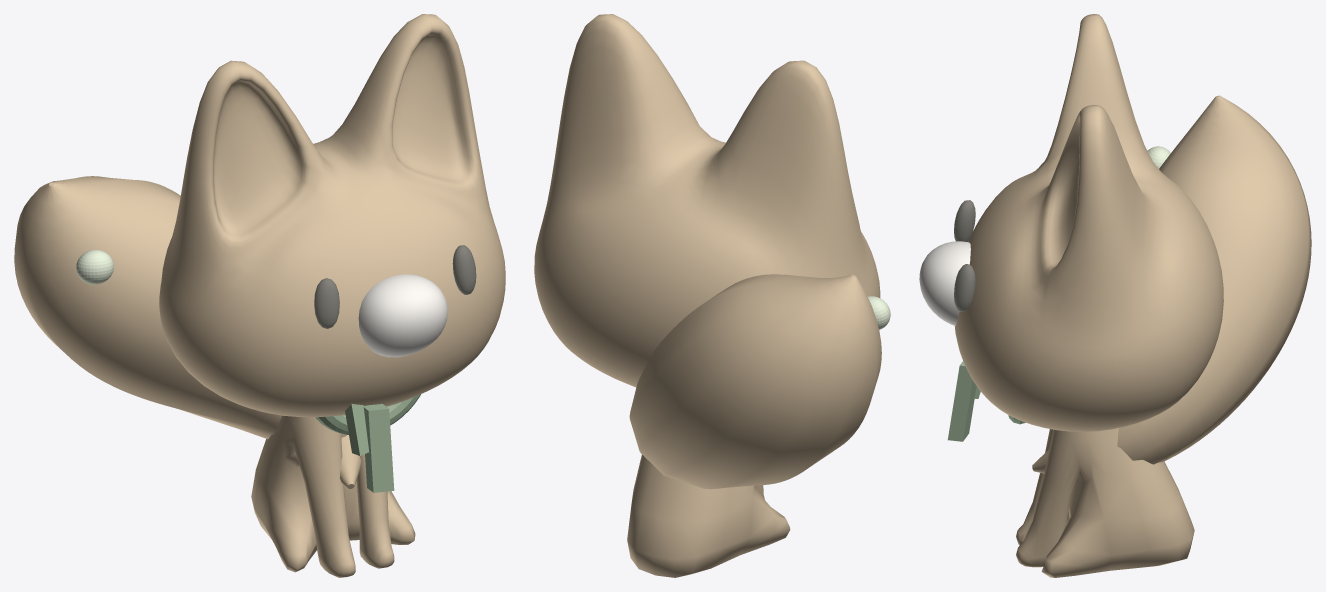
The model's file is fox-base-v10-forest-scout.glb.
The picture shows the model from 3 angles, left to right: view 1: azimuth 30°, elevation 25°; view 2: azimuth 150°, elevation 25°; view 3: azimuth 270°, elevation 25°; orthographic projection. The views are drawn at different scales.
Parts seen in each view (by area): view 1: FoxBase_Head, FoxBase_Tail, FoxBase_Body, FoxBase_Muzzle, FoxBase_AccScarf, FoxBase_EyeRight, FoxBase_TailTip, FoxBase_EyeLeft; view 2: FoxBase_Head, FoxBase_Tail, FoxBase_Body, FoxBase_TailTip; view 3: FoxBase_Head, FoxBase_Tail, FoxBase_Body, FoxBase_Muzzle, FoxBase_AccScarf, FoxBase_EyeLeft, FoxBase_EyeRight.
Boxes of the visible parts, bbox=[...] form: FoxBase_Head: bbox=[159, 14, 505, 417]; FoxBase_Tail: bbox=[14, 176, 360, 488]; FoxBase_Body: bbox=[251, 415, 415, 577]; FoxBase_Muzzle: bbox=[358, 274, 447, 357]; FoxBase_AccScarf: bbox=[315, 394, 420, 492]; FoxBase_EyeRight: bbox=[314, 278, 339, 328]; FoxBase_TailTip: bbox=[76, 249, 113, 284]; FoxBase_EyeLeft: bbox=[452, 245, 476, 294]; FoxBase_Head: bbox=[534, 14, 880, 387]; FoxBase_Tail: bbox=[629, 274, 881, 489]; FoxBase_Body: bbox=[627, 454, 790, 577]; FoxBase_TailTip: bbox=[868, 296, 890, 329]; FoxBase_Head: bbox=[954, 14, 1223, 431]; FoxBase_Tail: bbox=[1032, 95, 1311, 473]; FoxBase_Body: bbox=[1016, 428, 1194, 577]; FoxBase_Muzzle: bbox=[919, 241, 970, 325]; FoxBase_AccScarf: bbox=[947, 361, 1025, 441]; FoxBase_EyeLeft: bbox=[954, 264, 975, 311]; FoxBase_EyeRight: bbox=[954, 200, 975, 241].
Size of the model in its own units: 0.0997 by 0.123 by 0.0883.
